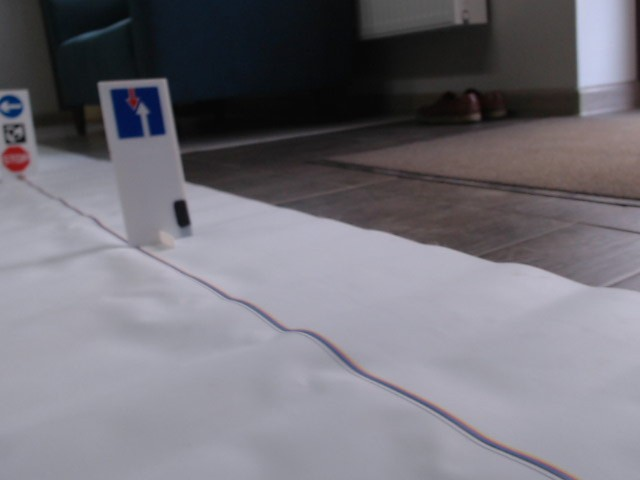priority_movement: (106, 86, 171, 140)
